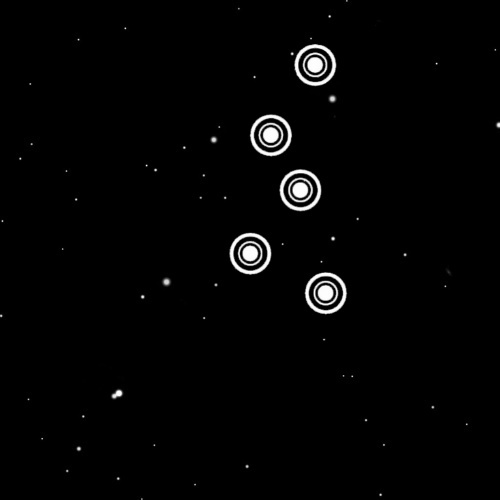cassiopeia: (216, 34, 358, 328)
